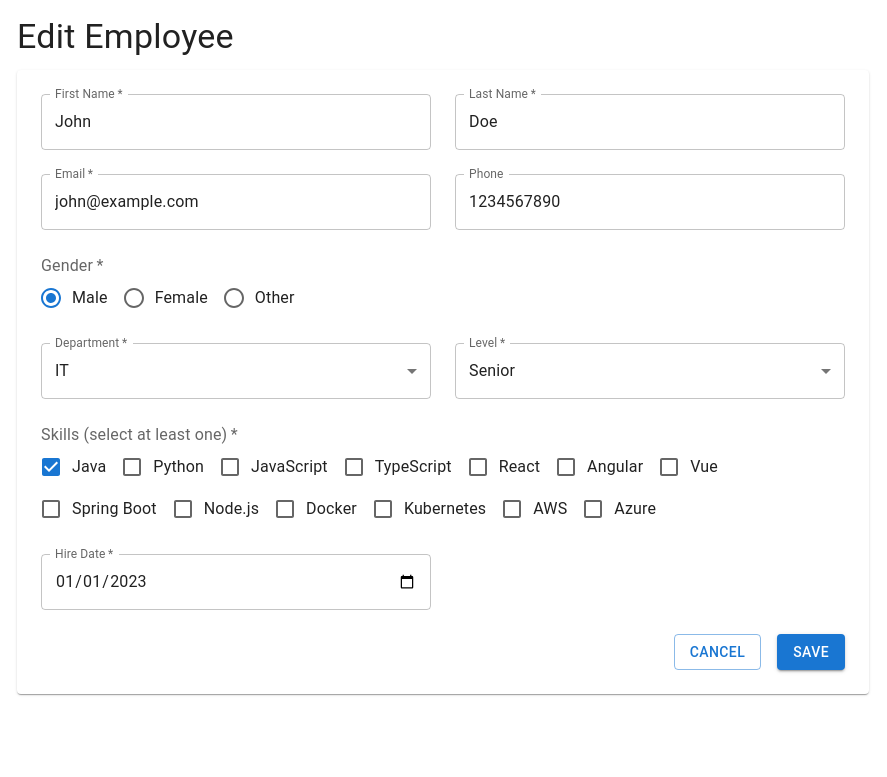
EmployeeFormPage › should show error message when update fails with response data
This screenshot has width=887, height=777.
expect the heading "Edit Employee" is shown: met, box [17,16,234,56]
expect the field showing "John" is shown: met, box [41,94,431,150]
// Submit the form (it's already filled with employee data)
What coordinates should you click on to do the following:
click the button "Save"
I would click on:
 (811, 652)
Its box is [777,634,845,670].
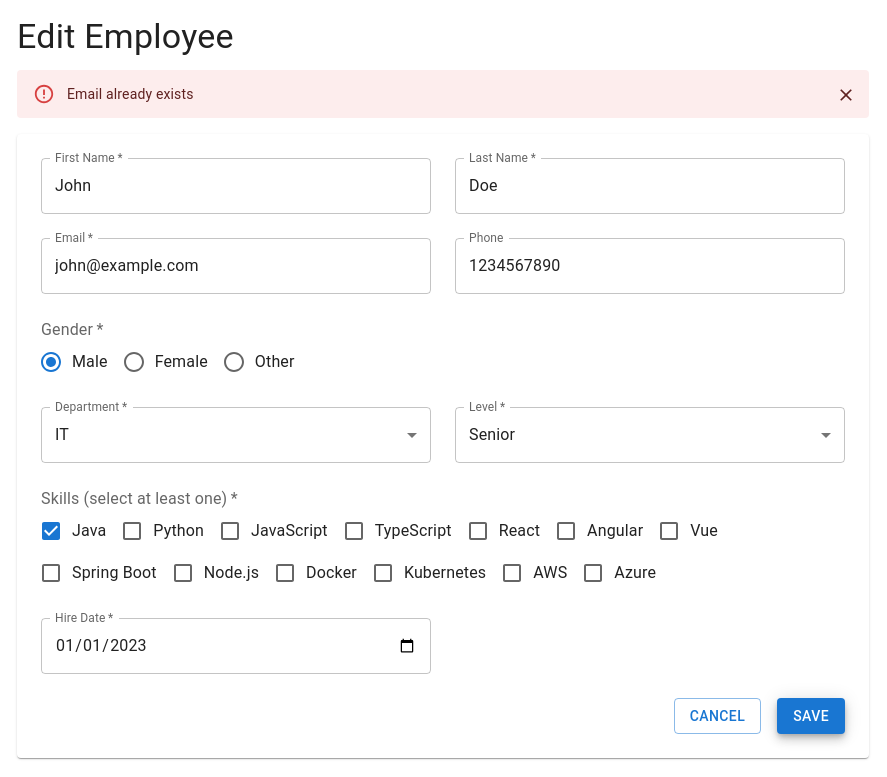
expect the text "Email already exists" is shown: met, box [67,86,194,102]
